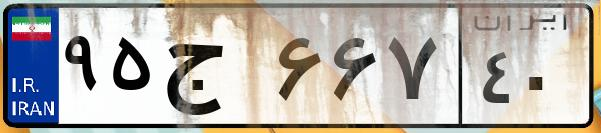0: (525, 38, 570, 115)
4: (475, 38, 525, 113)
5: (110, 28, 158, 98)
6: (270, 28, 330, 110), (330, 28, 385, 110)
7: (385, 28, 445, 110)
9: (57, 26, 110, 100)
ج: (158, 20, 270, 120)
